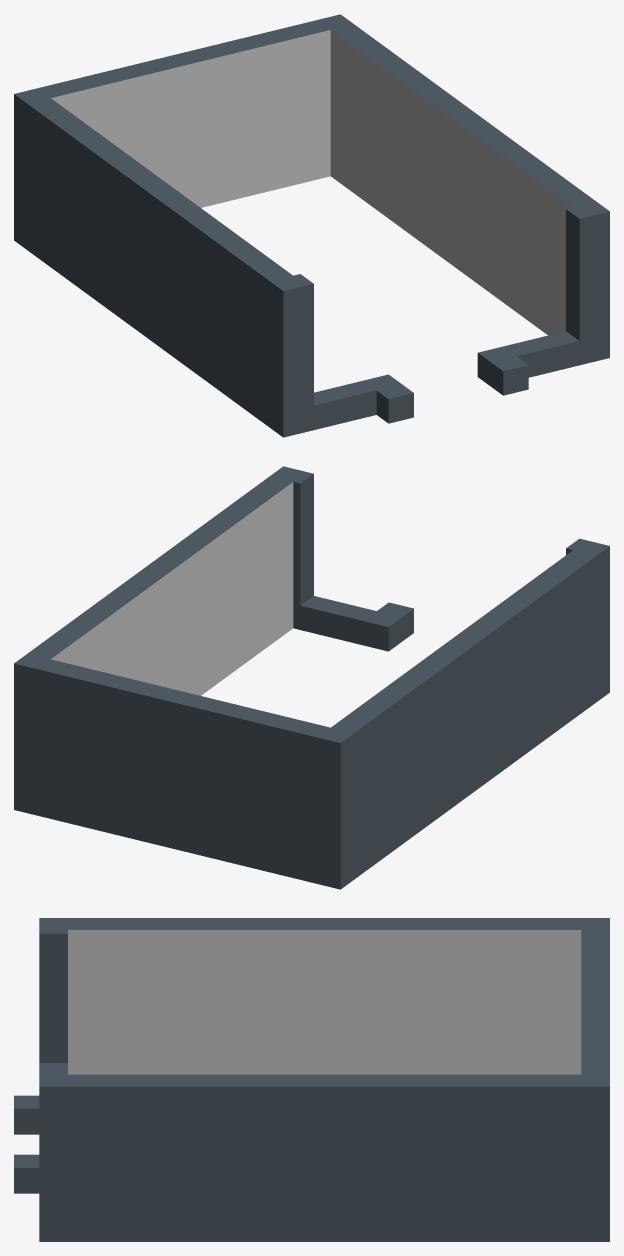
File: Room02_b01.FBX
The picture shows the model from 3 angles, top to bottom: view 1: azimuth 30°, elevation 25°; view 2: azimuth 150°, elevation 25°; view 3: azimuth 270°, elevation 25°; orthographic projection. The views are drawn at different scales.
Visible parts, largest first — view 1: Room02_b01; view 2: Room02_b01; view 3: Room02_b01.
Part boxes in pixels (box(x1,y1,x2,y2)): Room02_b01: box(14, 14, 609, 437); Room02_b01: box(14, 466, 609, 889); Room02_b01: box(14, 918, 609, 1241).
Bounding box in the file's own units: 700 × 300 × 1045.
